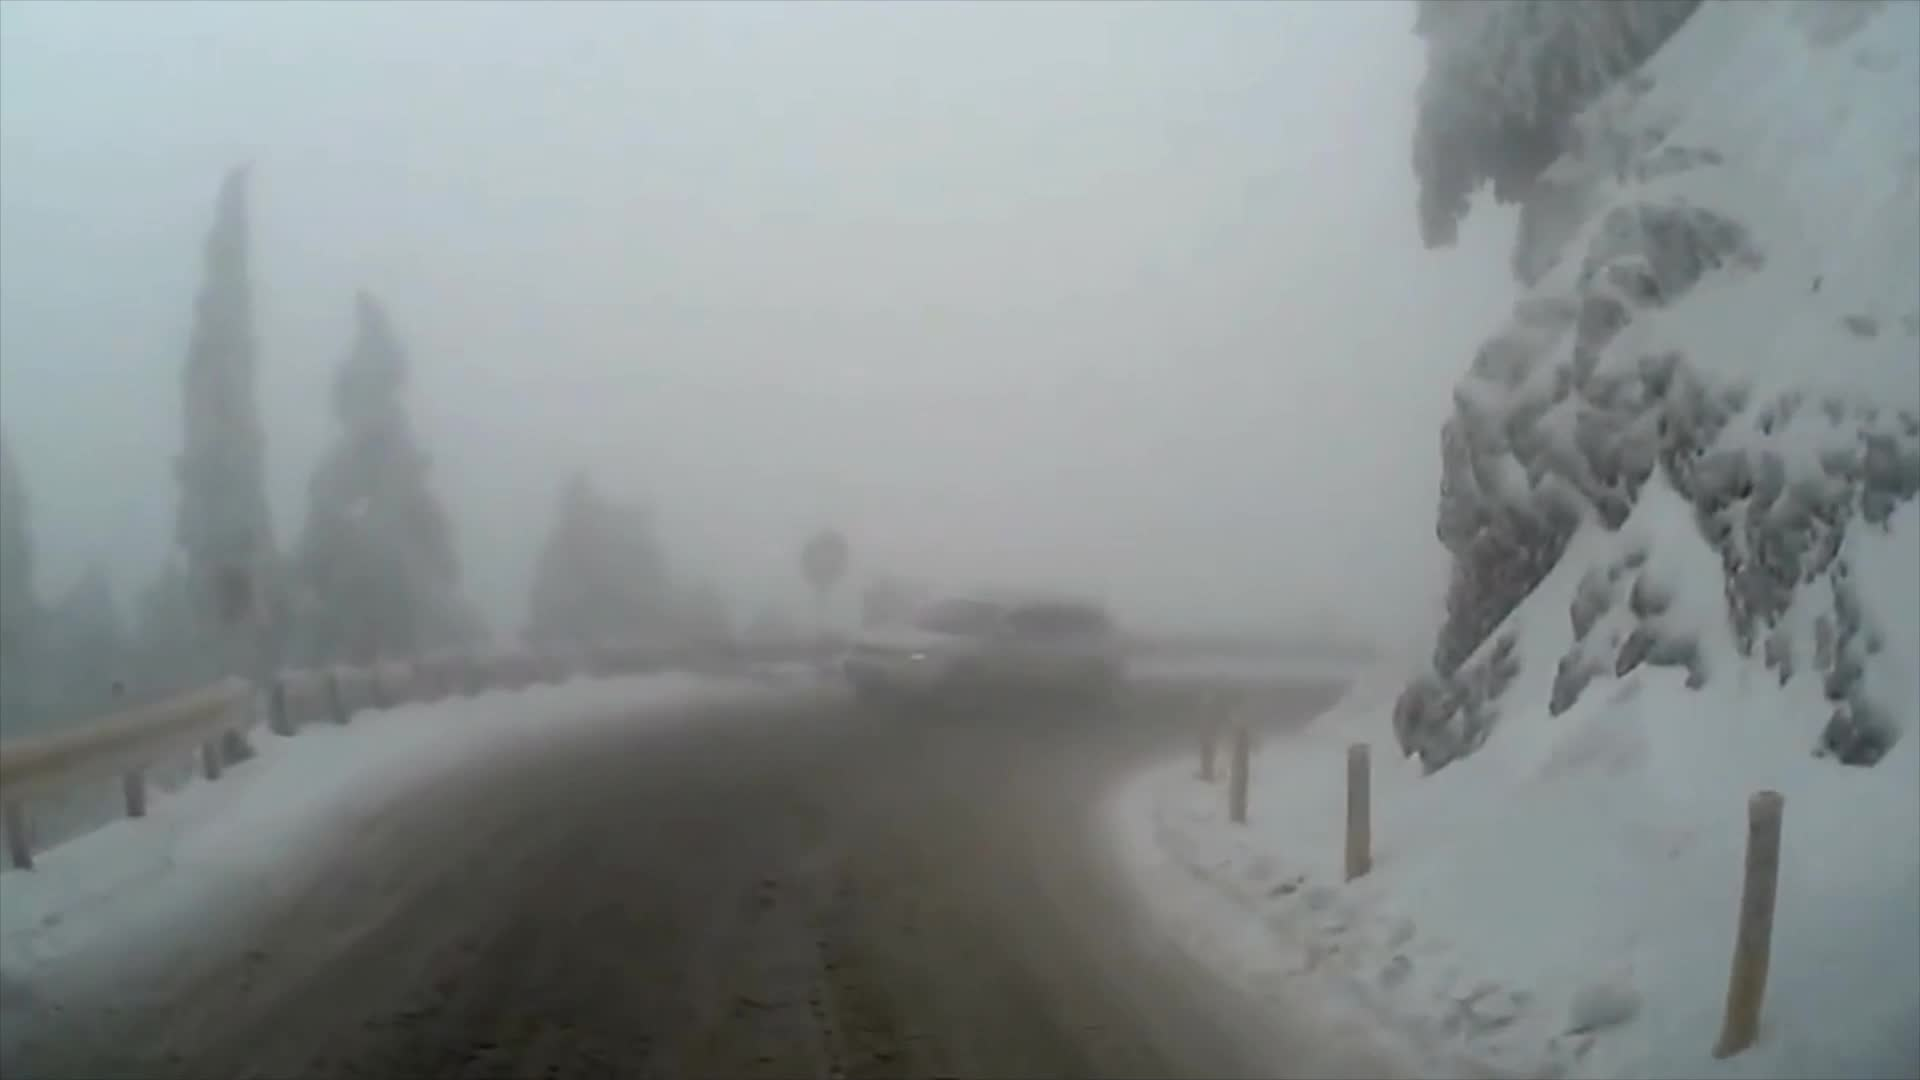vehicle: (837, 588, 1124, 724)
